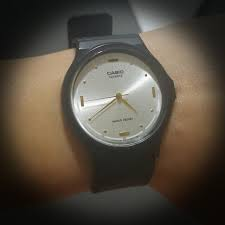clock: (65, 41, 176, 151)
